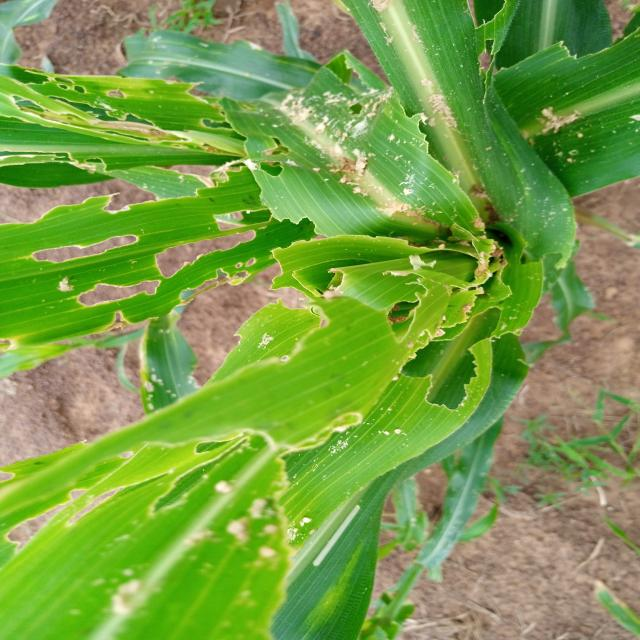fall-armyworm-egg: (251, 99, 433, 211), (232, 461, 314, 592), (530, 91, 610, 173)
fall-armyworm-larval-damage: (0, 44, 243, 237), (0, 211, 405, 309), (361, 255, 528, 427), (150, 406, 348, 522), (0, 422, 156, 554), (421, 0, 640, 79)
